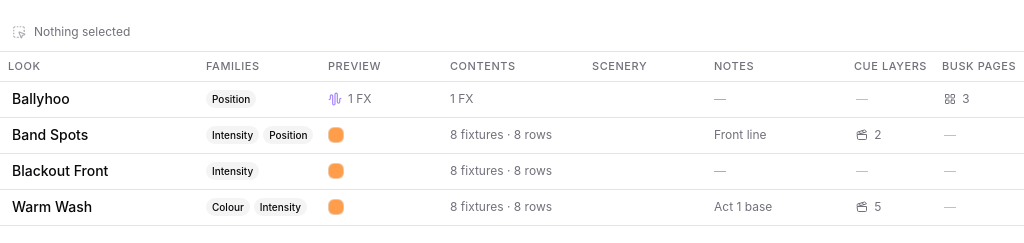
it: LookSheet › draws the board’s verbs over three rows, Include and Pick up disabled with the reason
Click the element showing "Ballyhoo" at (100, 99), box [0,82,200,116]
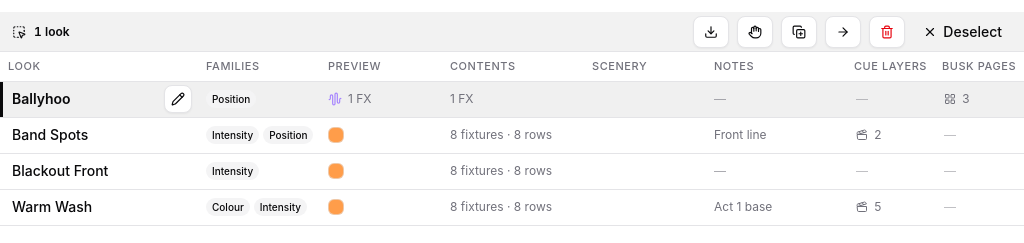
Click the element showing "Band Spots" at (100, 135), box [0,118,200,152]
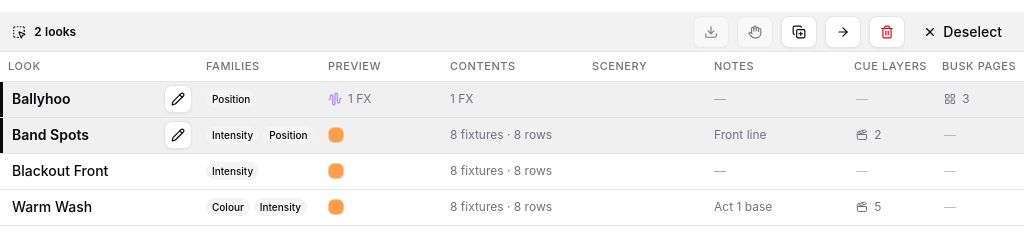
Click the element showing "Blackout Front" at (100, 171), box [0,154,200,188]
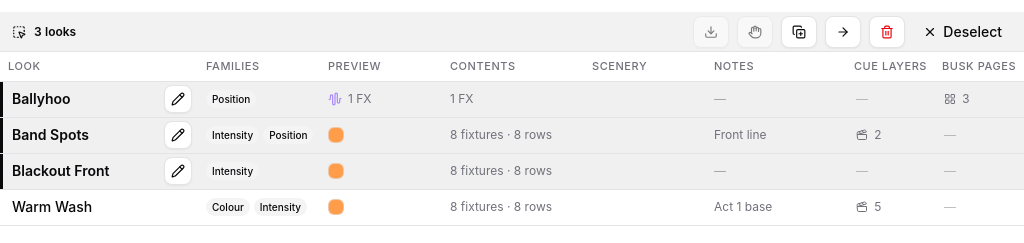
Expected: the button named "Include" is disabled, [693,16,729,48]
Expected: the button named "Pick up" is disabled, [737,16,773,48]
Expected: the text "3 looks" is shown, [34,24,76,40]
